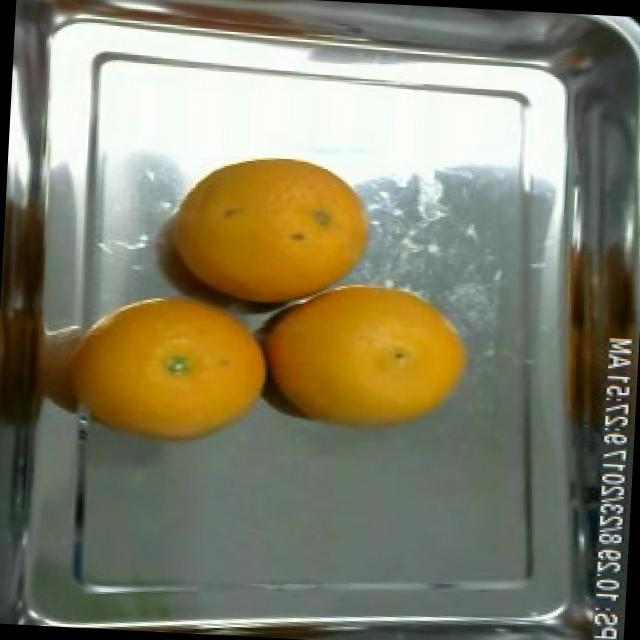Fruit: (272, 272, 488, 446)
